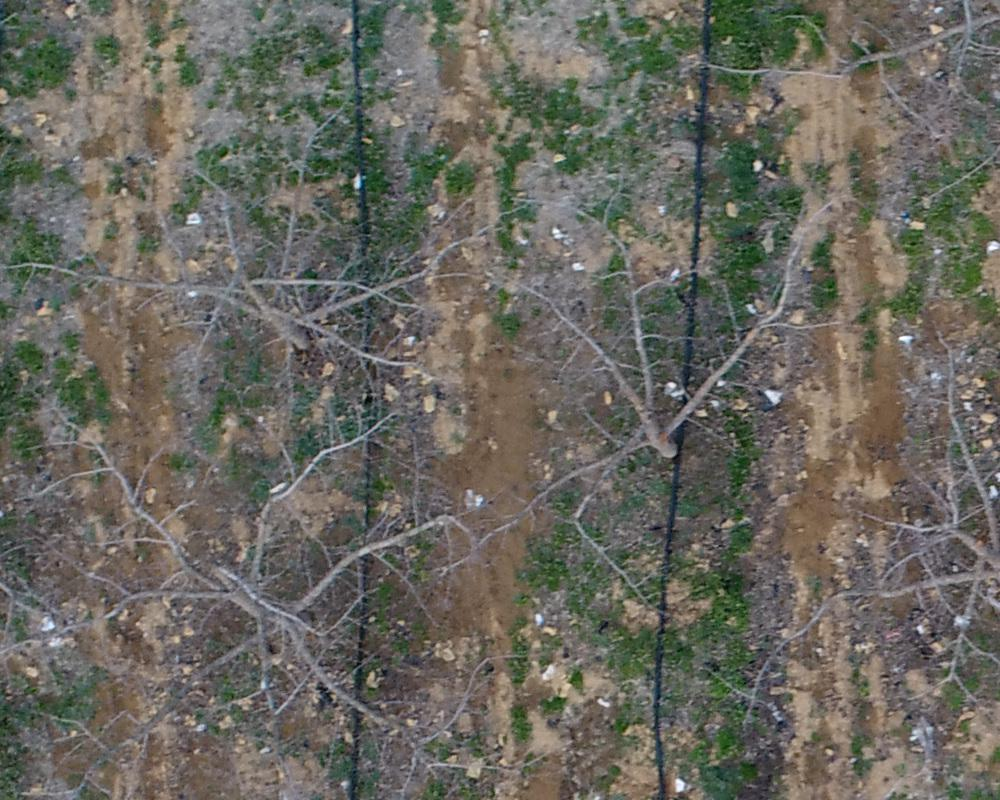apple: (24, 404, 522, 790), (463, 179, 848, 601), (10, 98, 529, 403), (820, 318, 990, 717)
